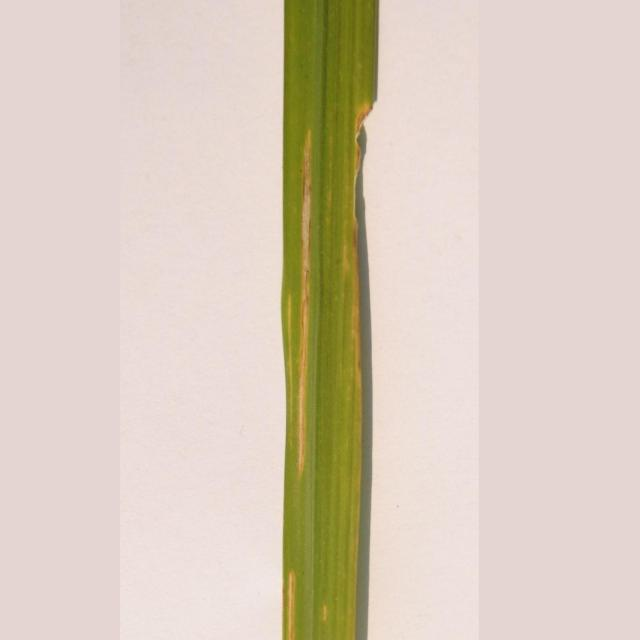leaf blight: (273, 95, 381, 639)
